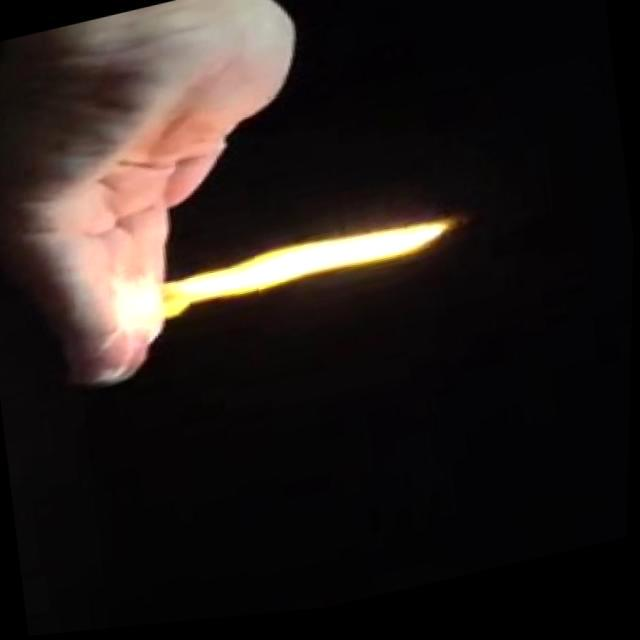fire: (97, 230, 356, 342)
